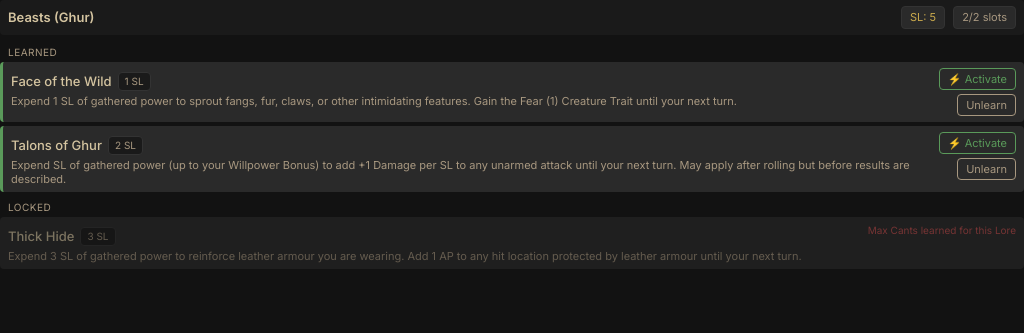
Test: CantPanel › All activation disabled after one Cant activated per round
Activate the first Cant
Click the button with aria-label "Activate Face of the Wild".
click(977, 78)  # box [939, 68, 1016, 90]
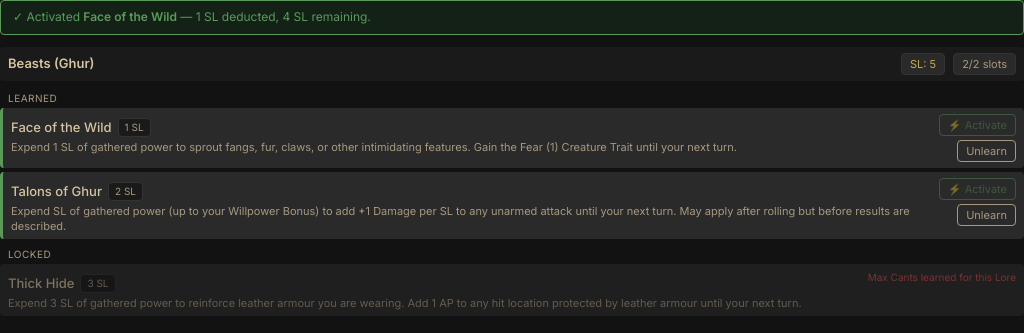
Check: the button with aria-label "Activate Talons of Ghur" is disabled, box [939, 178, 1016, 200]
